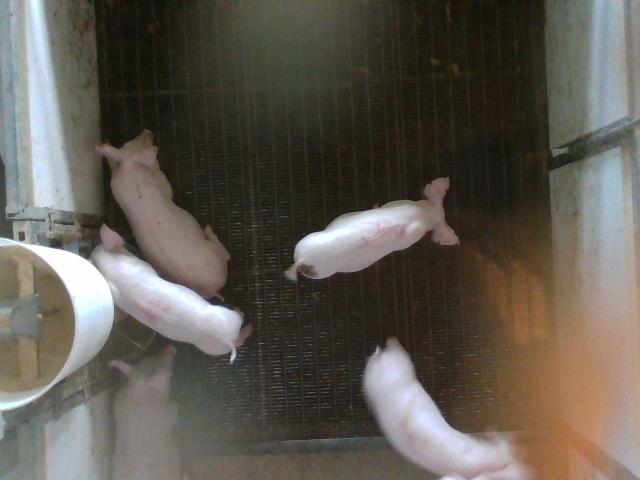pig-4: (90, 225, 245, 361)
pig-5: (285, 178, 459, 281)
